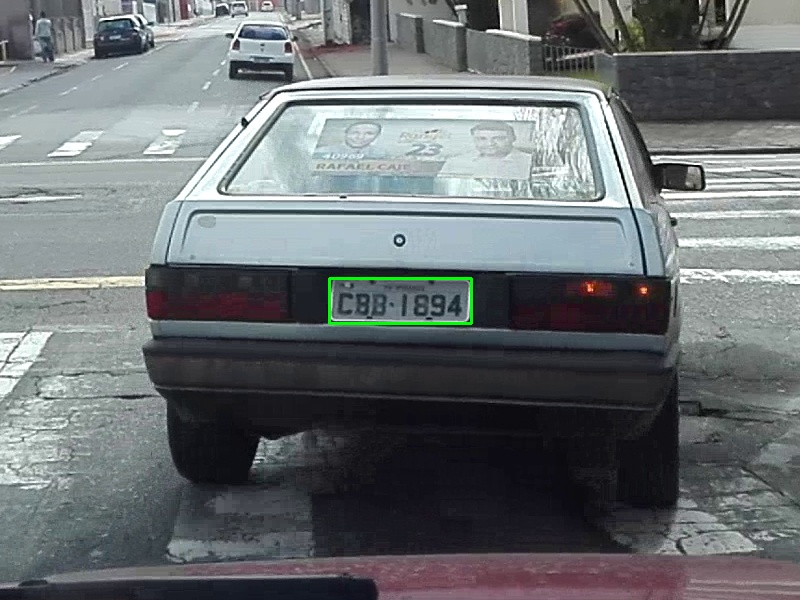placa: (329, 278, 471, 323)
